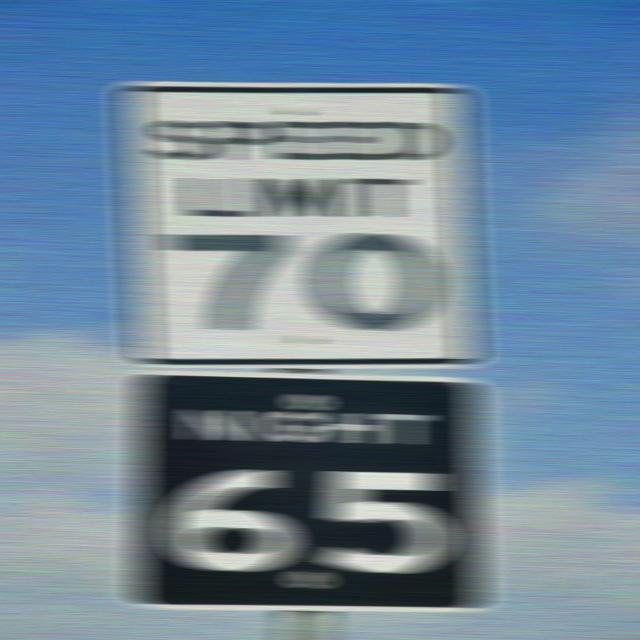speedLimit70: (110, 79, 481, 379)
